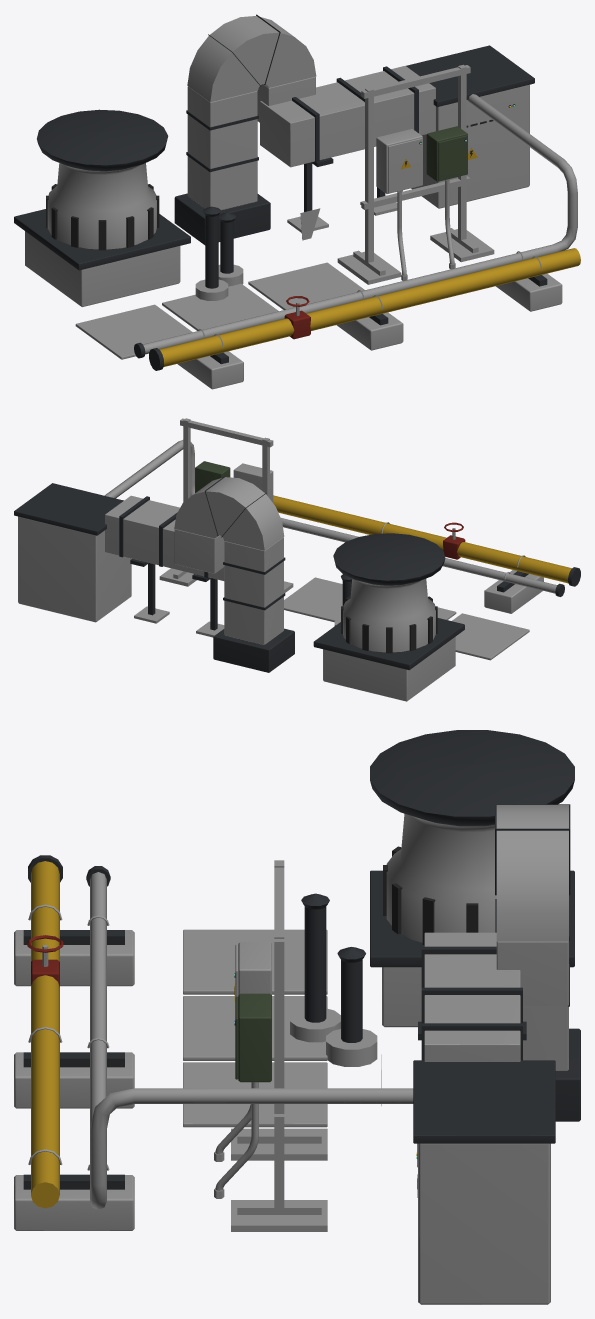
File: Roof_Clutter_Pack_A.fbx
3 views of the same model, one above another, from view 1: azimuth 30°, elevation 25°; view 2: azimuth 150°, elevation 25°; view 3: azimuth 270°, elevation 25° (orthographic). The views are drawn at different scales.
Visible parts, largest first — view 1: Roof_Clutter_Pack_A_LOD0; view 2: Roof_Clutter_Pack_A_LOD0; view 3: Roof_Clutter_Pack_A_LOD0.
Boxes of the visible parts, x1,y1,x2,y2 form: Roof_Clutter_Pack_A_LOD0: (14,14,580,389); Roof_Clutter_Pack_A_LOD0: (14,418,580,701); Roof_Clutter_Pack_A_LOD0: (14,730,580,1304).
Size of what is drawn, in the model's own units: 3.75 by 1.4 by 2.35.
